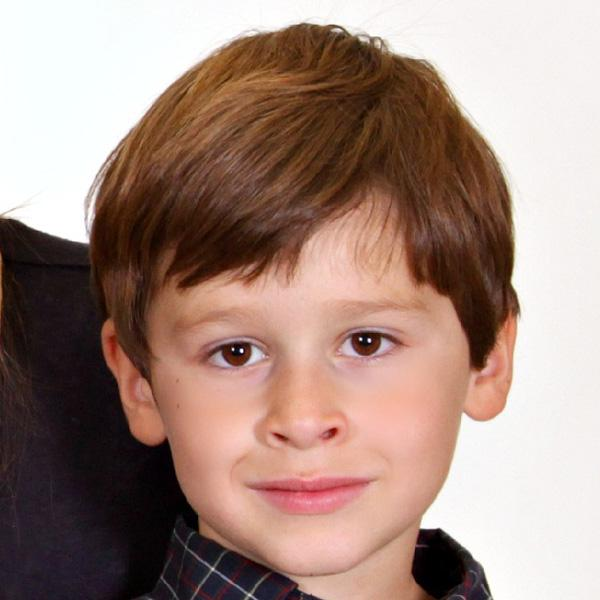Eyes: (325, 318, 411, 374), (194, 329, 278, 382)
